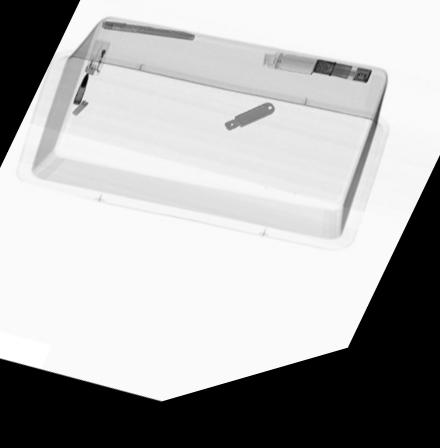Lighter: (84, 44, 113, 82)
